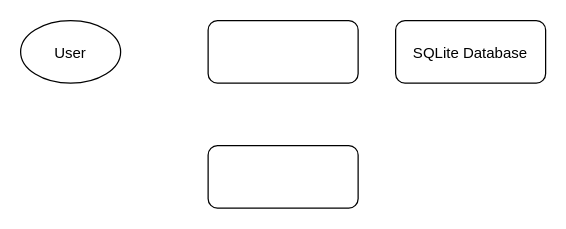
Some shapes in this 566 by 229 pixel diagram are drawn without their labels. Here are the shapes that lost their labels. From the top down, the centre of each, then its label:
point (282, 51): ChatGPT Model
point (282, 176): RL Engine
